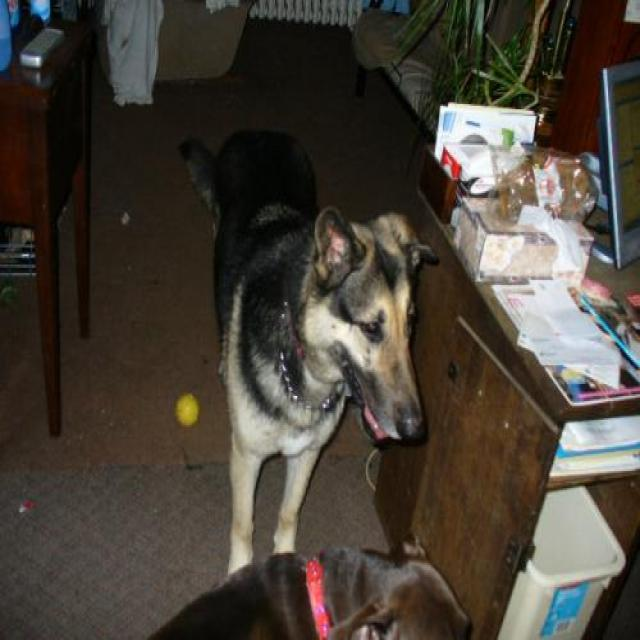dogs: (174, 126, 426, 580)
